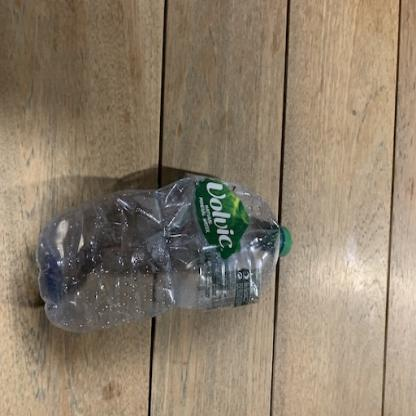trash: (35, 172, 291, 335)
